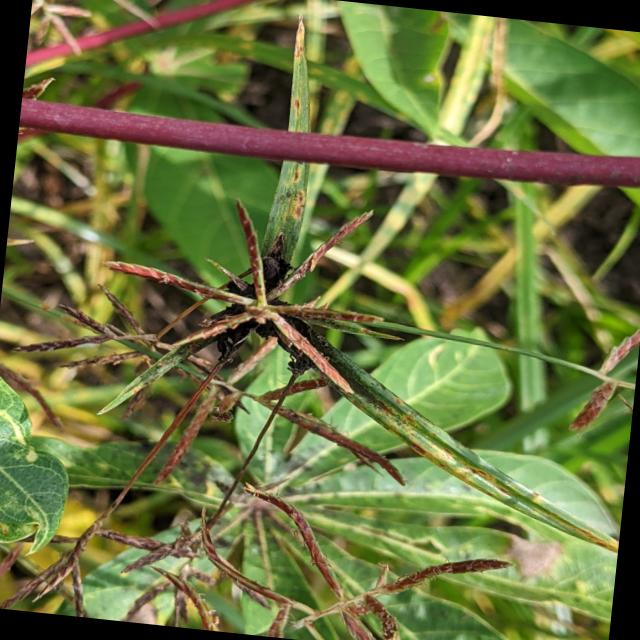cyperus: (0, 154, 558, 640)
